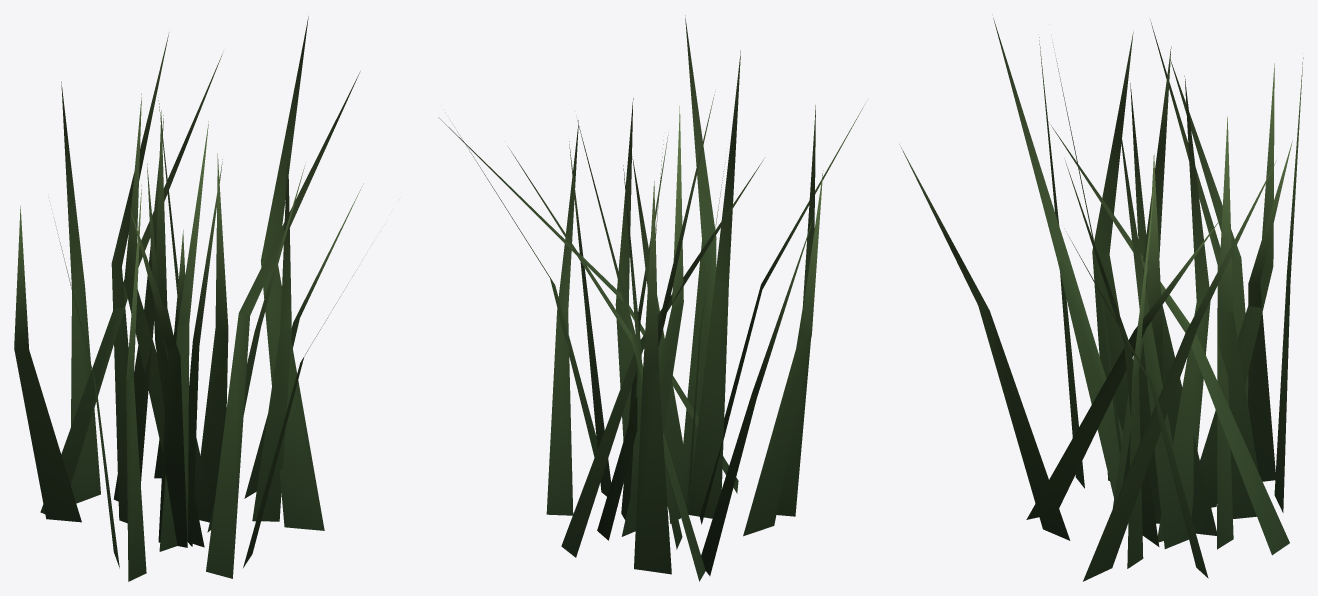
Rendered from grass_clump_fresh_lod.glb.
3 renders of one model, left to right at view 1: azimuth 30°, elevation 25°; view 2: azimuth 150°, elevation 25°; view 3: azimuth 270°, elevation 25°, orthographic. The views are drawn at different scales.
Parts seen in each view (by area): view 1: grass_clump_fresh_lod; view 2: grass_clump_fresh_lod; view 3: grass_clump_fresh_lod.
Boxes of the visible parts, x1,y1,x2,y2 form: grass_clump_fresh_lod: (14, 16, 372, 581); grass_clump_fresh_lod: (438, 15, 864, 581); grass_clump_fresh_lod: (899, 18, 1303, 581).
Bounding box in the file's own units: 0.5554 × 0.66 × 0.4953.
